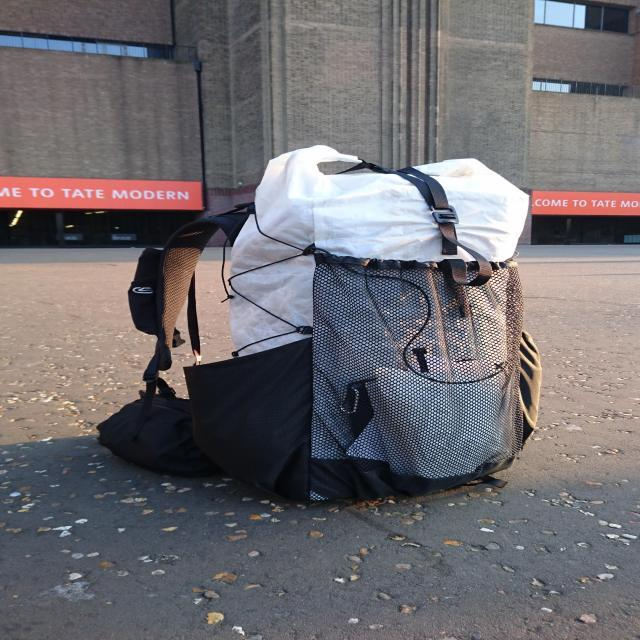Backpacks: (132, 145, 544, 500)
